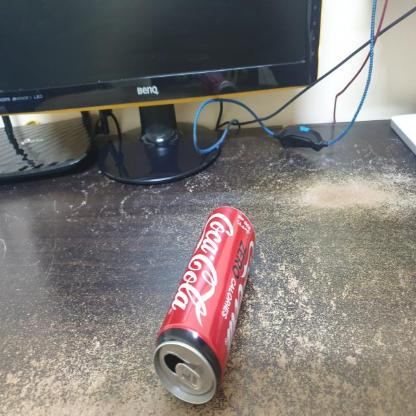Can: (148, 199, 258, 405)
